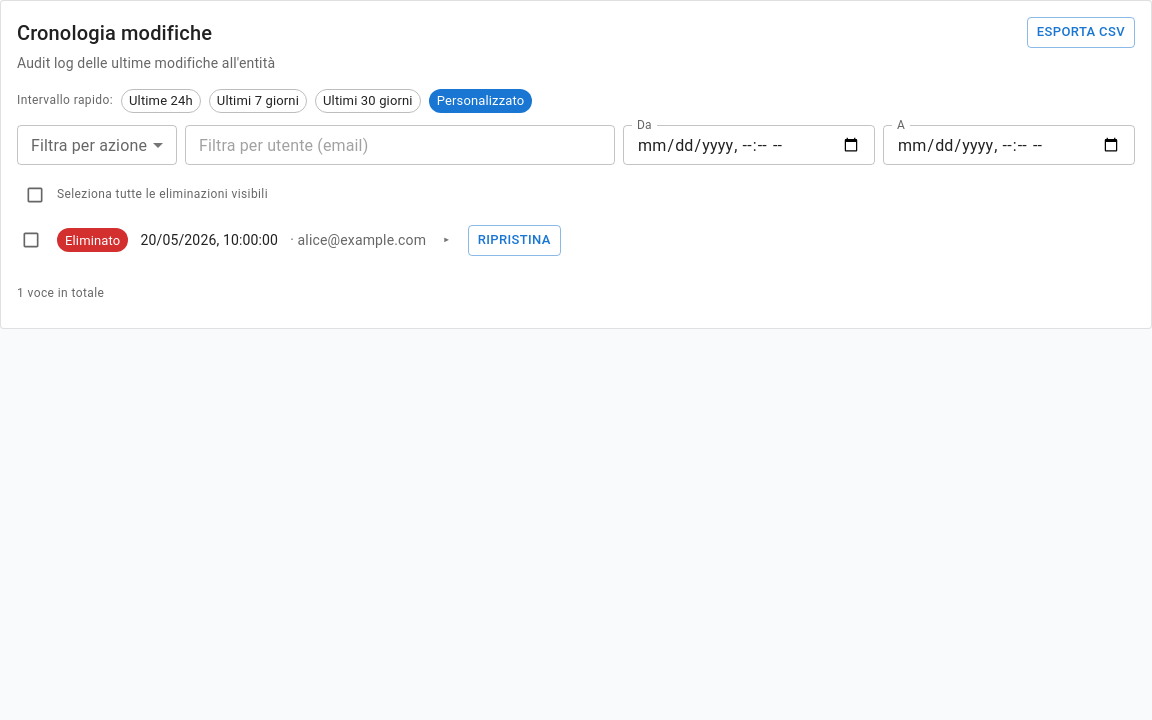
Test: AuditHistoryPanel › shows Italian conflict toast on 409 error after confirm
The width and height of the screenshot is (1152, 720).
Expected: the text "Eliminato" is shown, [65,233,120,248]
Click the button with aria-label "Ripristina entit". click: (514, 240)
box: [468,225,561,256]
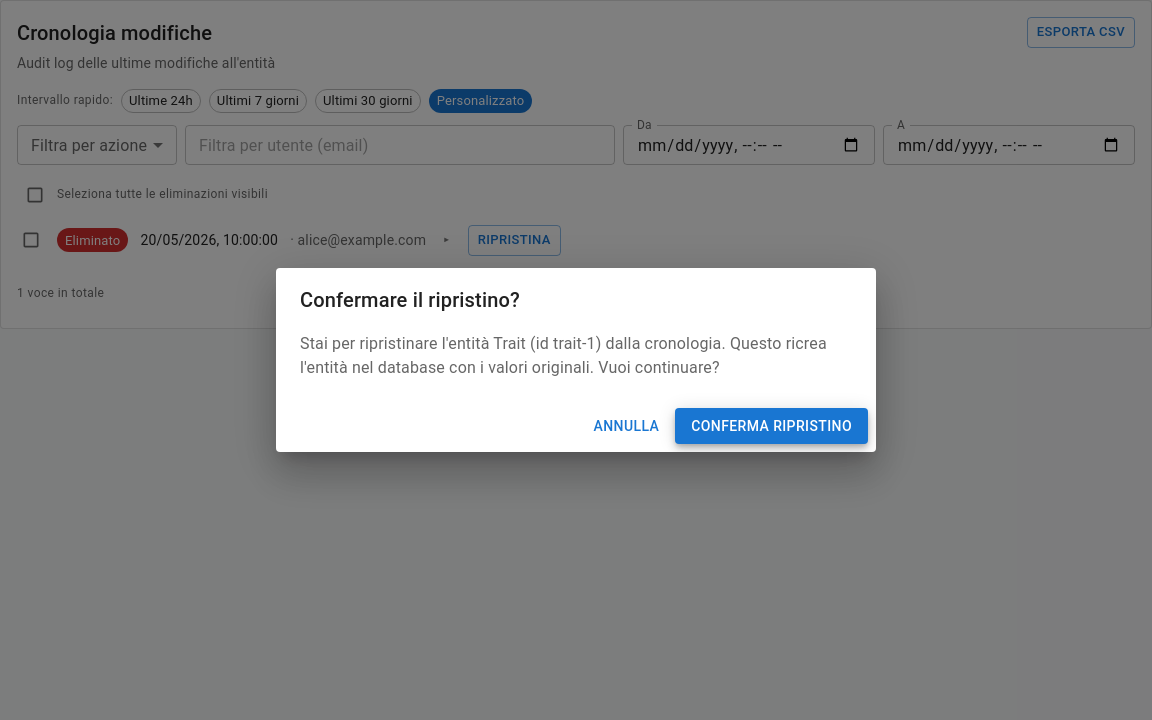
Now the heading "Confermare il ripristino?" is shown, box [300,288,520,312]
Click the button "Conferma ripristino". click: (772, 426)
box: [675,408,868,444]
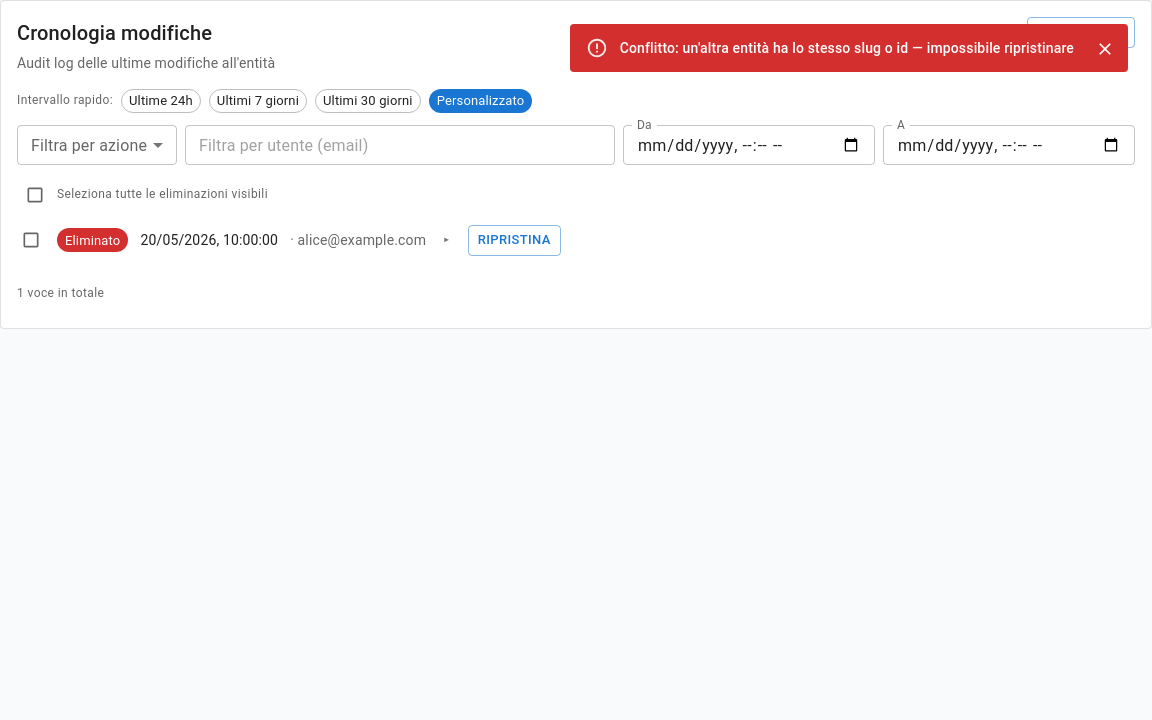
Now the text "Conflitto: un'altra entità ha lo stesso slug o id" is shown, box [620,40,1074,56]
